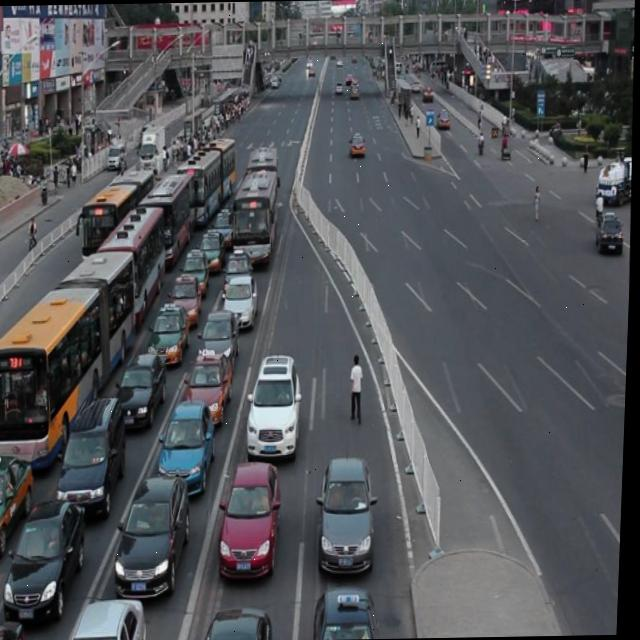bus: (595, 155, 633, 201)
car: (5, 504, 91, 622), (117, 481, 196, 602), (60, 401, 130, 518), (221, 466, 286, 578), (318, 462, 382, 574), (248, 359, 306, 461), (162, 406, 219, 496), (313, 588, 391, 640), (0, 456, 38, 560), (119, 356, 171, 432), (187, 353, 236, 428), (59, 602, 150, 640), (200, 312, 243, 378), (150, 306, 194, 367), (192, 611, 279, 640), (223, 280, 260, 330), (171, 279, 204, 326), (180, 250, 211, 294), (197, 230, 227, 274), (225, 251, 255, 294), (594, 210, 623, 254), (212, 210, 237, 250), (349, 132, 366, 157)
van: (0, 254, 141, 472), (91, 207, 170, 330), (76, 174, 159, 271), (175, 140, 238, 228), (138, 176, 197, 268), (232, 174, 279, 266), (245, 150, 282, 222)
